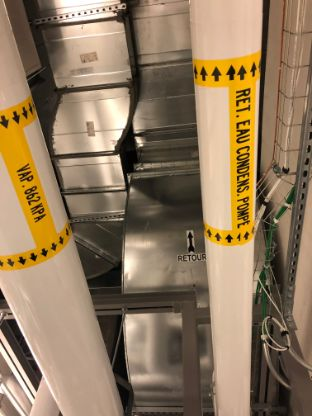Duct: (115, 1, 222, 416), (30, 1, 135, 227)
